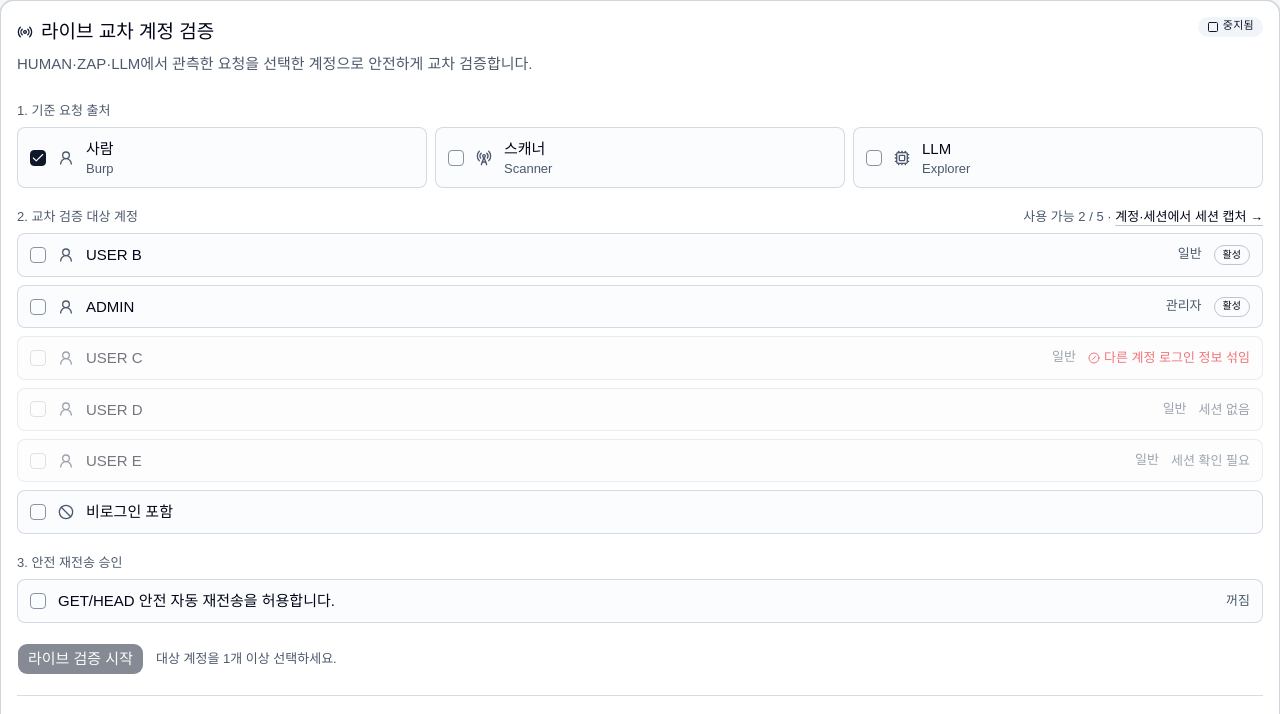
Test: LiveAuthorizationReplayCard › keeps the start button disabled until a target and the approval are set
Expected: the button "라이브 검증 시작" is disabled, left=17, top=643, right=144, bottom=675
Click the checkbox named "USER B" at (38, 255), box left=30, top=247, right=46, bottom=263
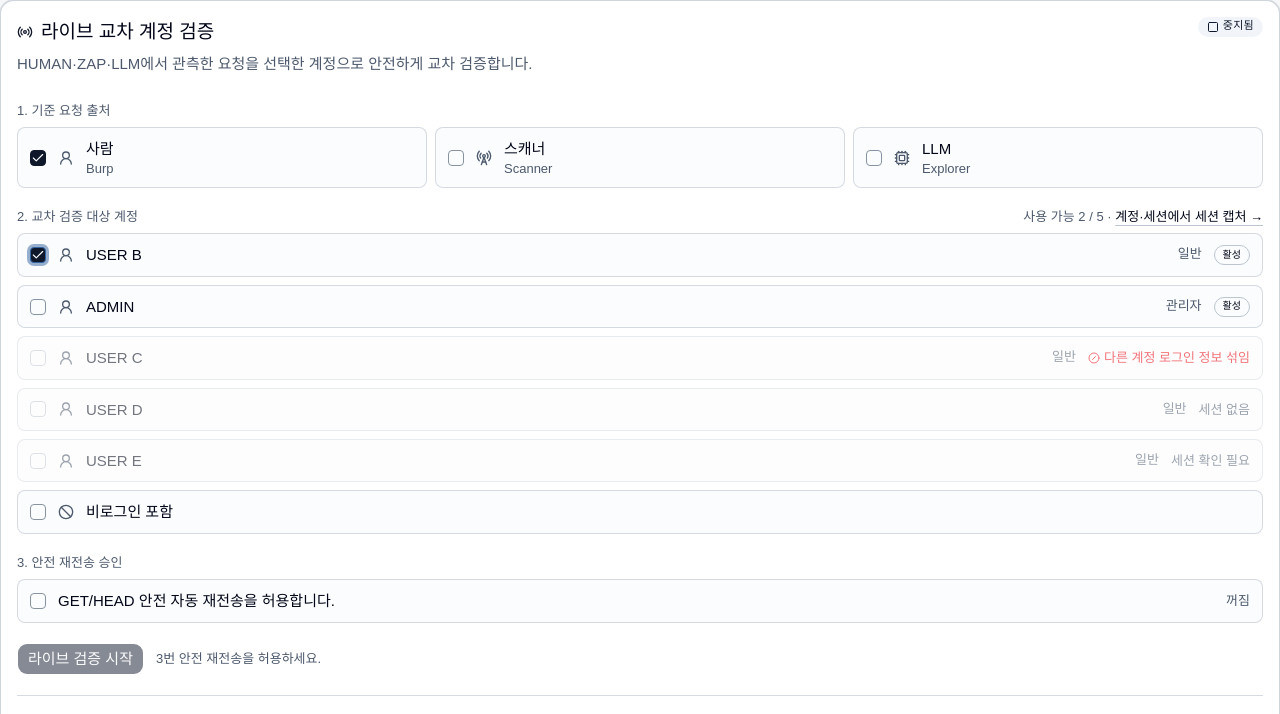
Expected: the button "라이브 검증 시작" is disabled, left=17, top=643, right=144, bottom=675
Click the checkbox named "안전 자동 재전송을 허용합니다." at (38, 601), box left=30, top=593, right=46, bottom=609
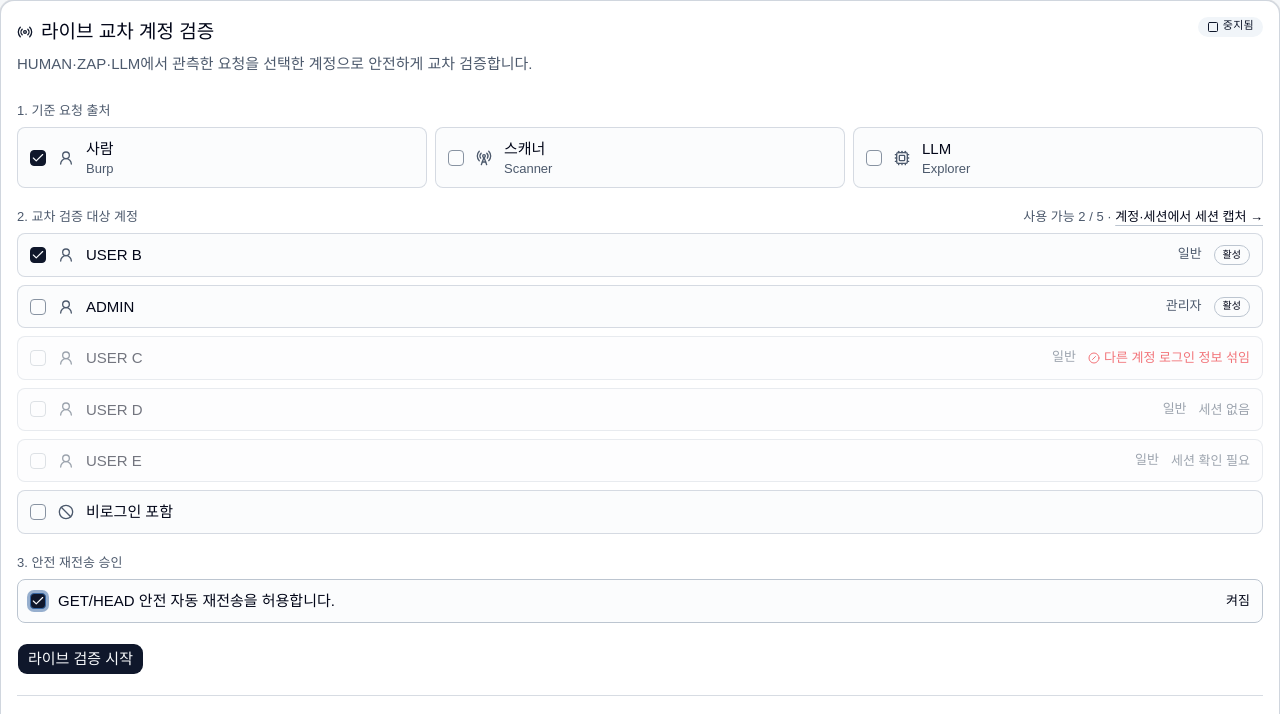
Now the button "라이브 검증 시작" is enabled, box left=17, top=643, right=144, bottom=675
